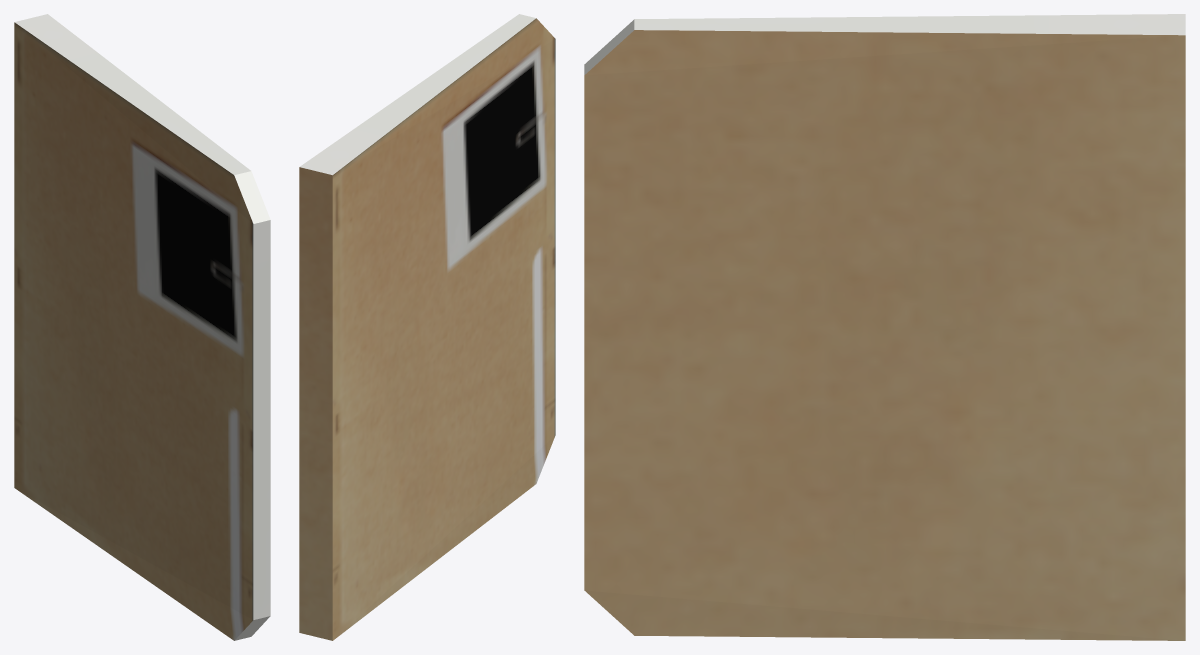
The model's file is FolderMiniCarton.fbx.
3 views of the same model, side by side, from view 1: azimuth 30°, elevation 25°; view 2: azimuth 150°, elevation 25°; view 3: azimuth 270°, elevation 25° (orthographic). The views are drawn at different scales.
Parts seen in each view (by area): view 1: FolderMiniCarton; view 2: FolderMiniCarton; view 3: FolderMiniCarton.
Boxes of the visible parts, x1,y1,x2,y2 form: FolderMiniCarton: (14, 14, 270, 640); FolderMiniCarton: (299, 14, 555, 640); FolderMiniCarton: (584, 14, 1185, 640).
Bounding box in the file's own units: 3.33 × 44.24 × 39.78.
